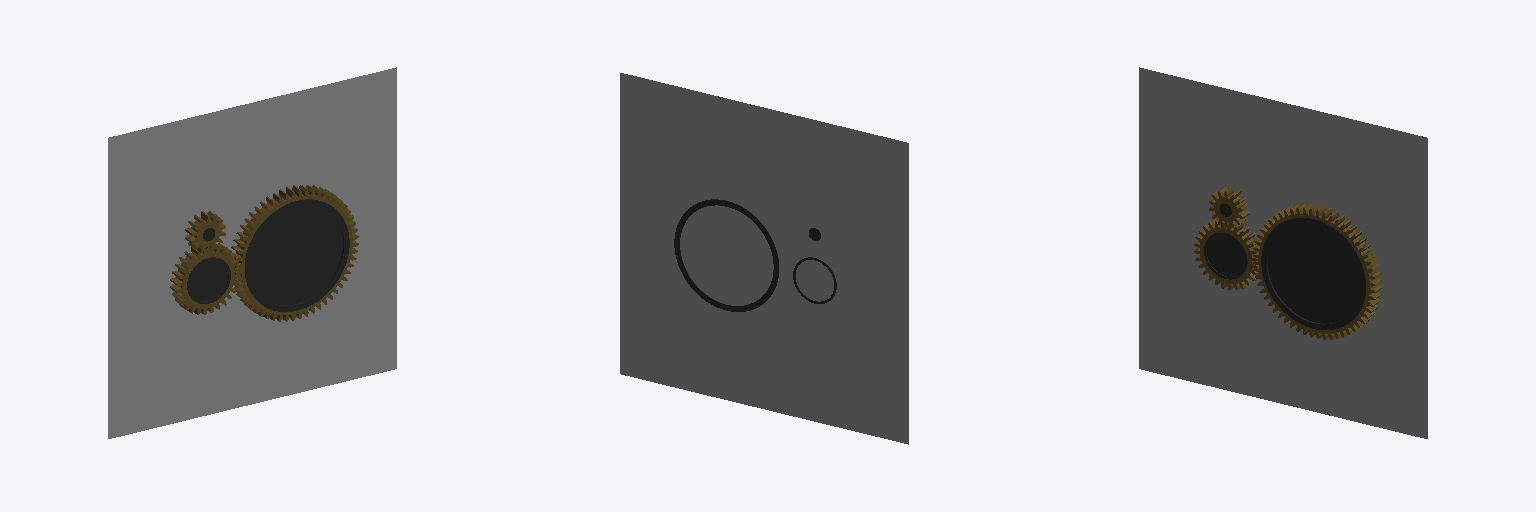
File: 7eoe6inwuwv4.obj
The picture shows the model from 3 angles: view 1: azimuth 30°, elevation 25°; view 2: azimuth 150°, elevation 25°; view 3: azimuth 330°, elevation 25°; orthographic projection.
Parts seen in each view (by area): view 1: Plane, Circle.003, Gear.002, Gear, Circle.001, Gear.001; view 2: Plane, Circle.003; view 3: Plane, Circle.003, Gear.002, Gear, Circle.001, Gear.001.
Part boxes in pixels (x1,y1,x2,y2): Plane: (108, 67, 396, 438); Circle.003: (245, 199, 349, 311); Gear.002: (231, 185, 358, 321); Gear: (170, 243, 240, 314); Circle.001: (187, 257, 230, 303); Gear.001: (185, 211, 225, 252); Plane: (620, 73, 908, 444); Circle.003: (674, 199, 778, 311); Plane: (1139, 67, 1427, 438); Circle.003: (1261, 218, 1365, 329); Gear.002: (1253, 203, 1381, 339); Gear: (1194, 218, 1259, 289); Circle.001: (1204, 233, 1247, 279); Gear.001: (1209, 186, 1249, 227).
Size of the model in its own units: 9.83 by 9.83 by 0.446.